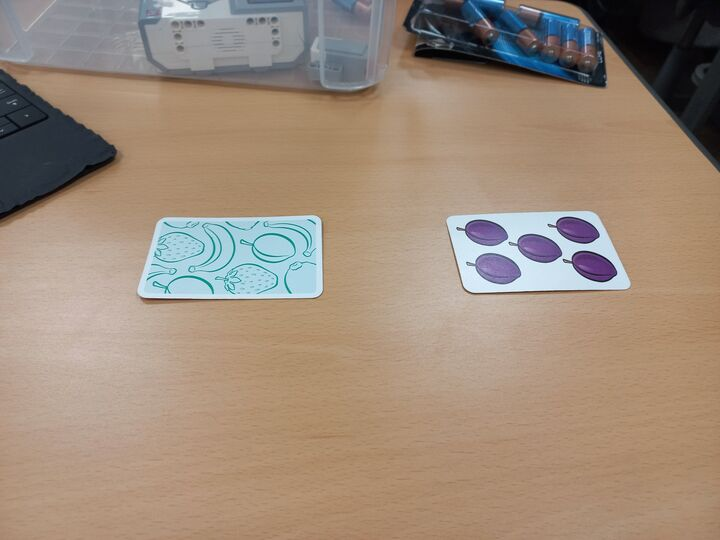plum5: (444, 210, 636, 298)
